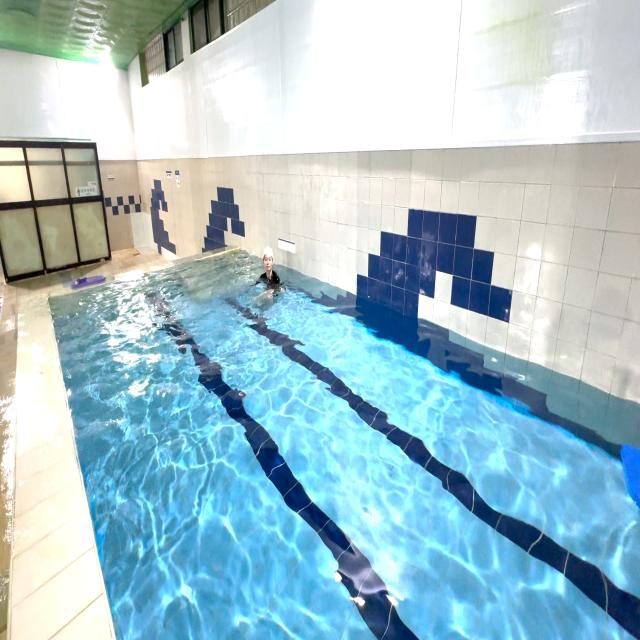Swimming: (240, 231, 296, 328)
